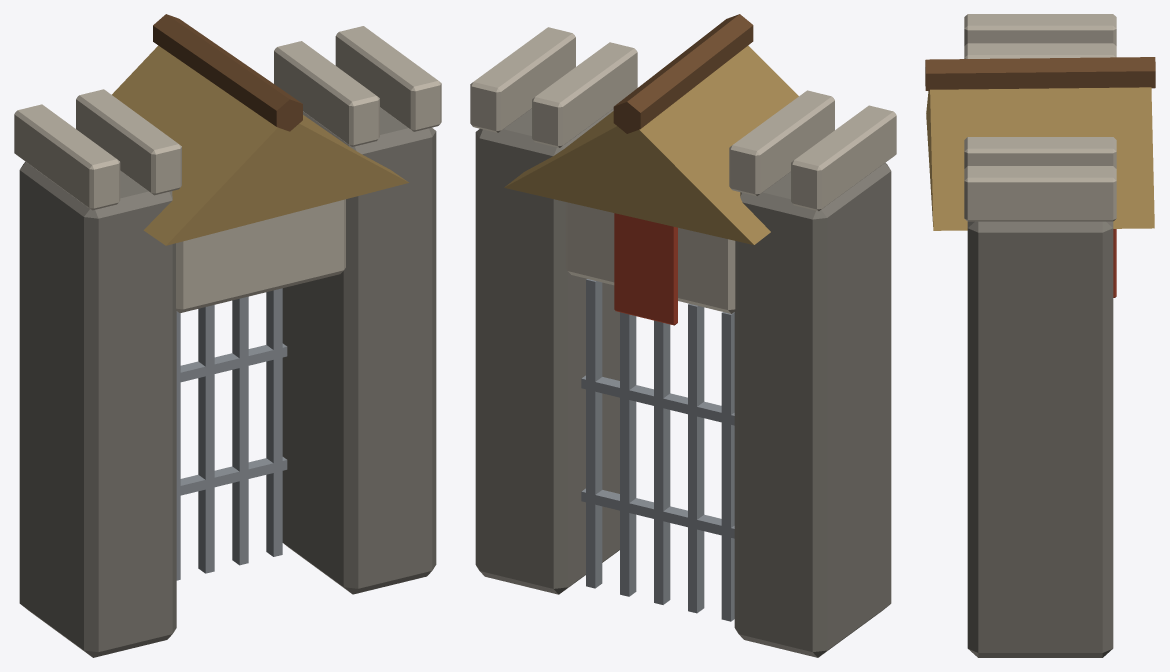
Rendered from gatehouse.fbx.
3 renders of one model, left to right at view 1: azimuth 30°, elevation 25°; view 2: azimuth 150°, elevation 25°; view 3: azimuth 270°, elevation 25°, orthographic. The views are drawn at different scales.
Visible parts, largest first — view 1: Prop, Portcullis; view 2: Prop, Portcullis; view 3: Prop.
Boxes of the visible parts, x1,y1,x2,y2 form: Prop: (14,14,441,657); Portcullis: (176,288,287,580); Prop: (470,14,896,657); Portcullis: (581,279,734,621); Prop: (925,14,1155,657).
Size of the model in its own units: 1.14 by 0.666 by 1.66.
